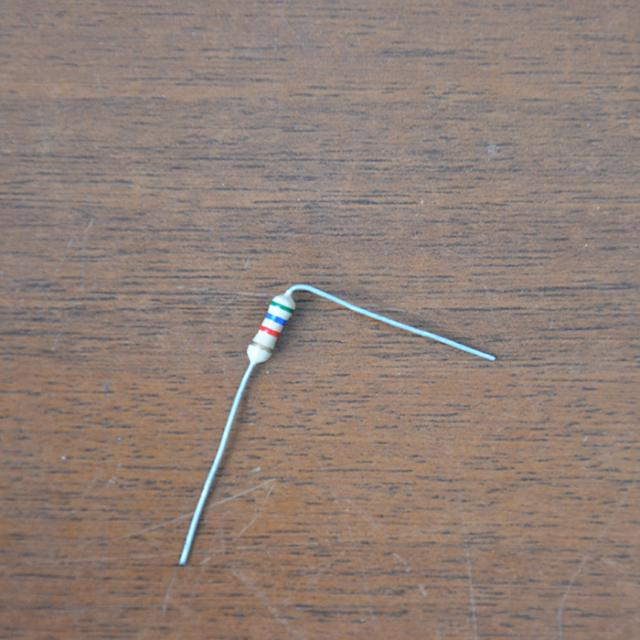blue: (266, 314, 283, 324)
gold: (251, 339, 272, 351)
green: (270, 300, 293, 314)
red: (260, 325, 277, 336)
resistor: (235, 288, 307, 370)
